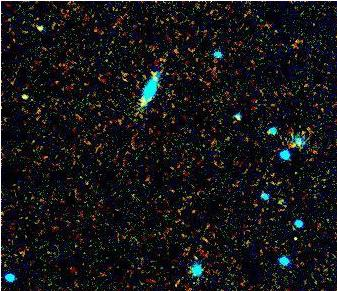star: (285, 224, 315, 254)
